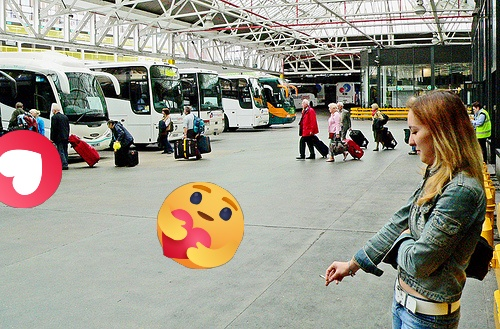care: (157, 182, 244, 269)
love: (0, 130, 62, 208)
